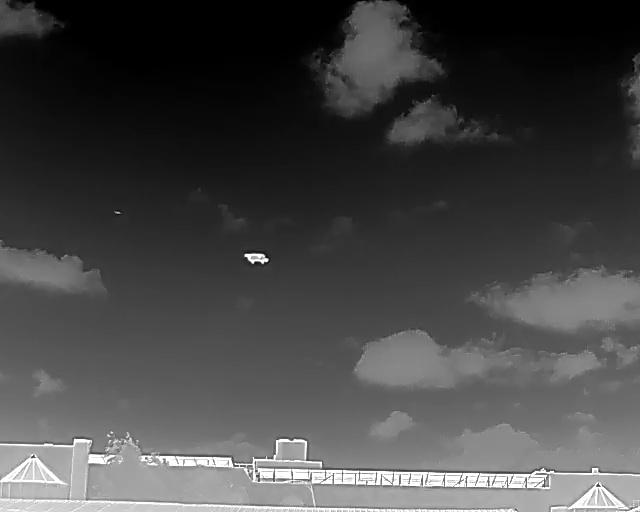fpv-drone: (244, 253, 269, 264)
